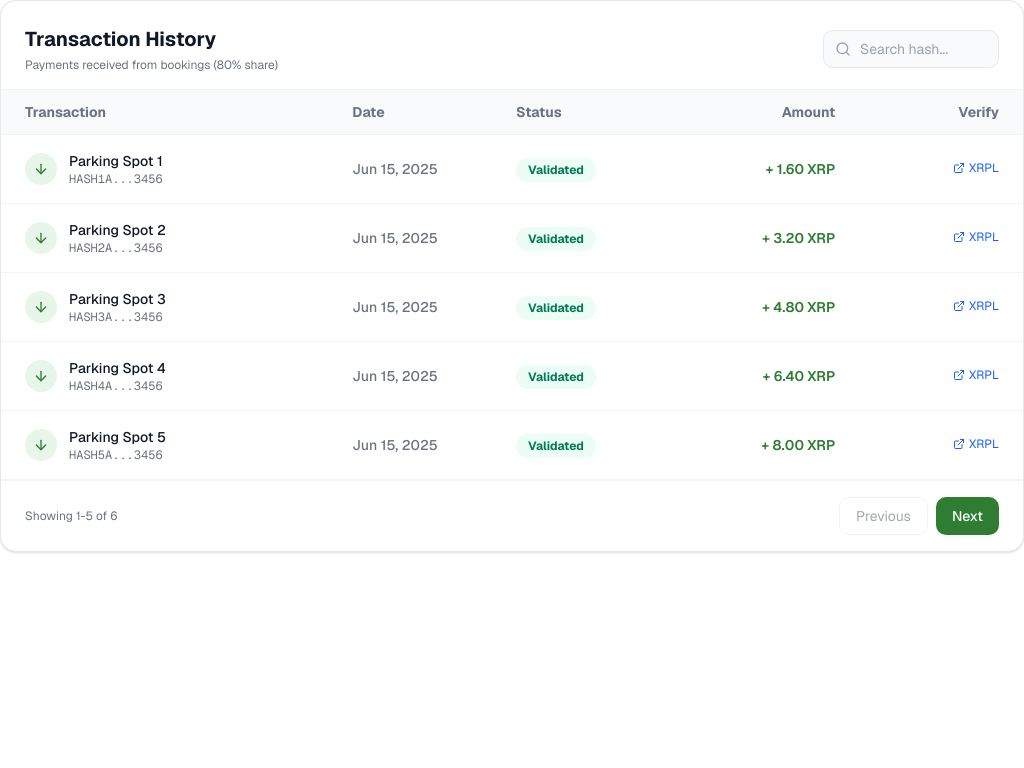
Test: TransactionHistoryCard Component › Search Resets Pagination › searching resets to page 1
Check: the text "Parking Spot 1" is shown, box [69, 151, 163, 171]
// Go to page 2
Click the button "Next" at (967, 516), box [936, 497, 999, 535]
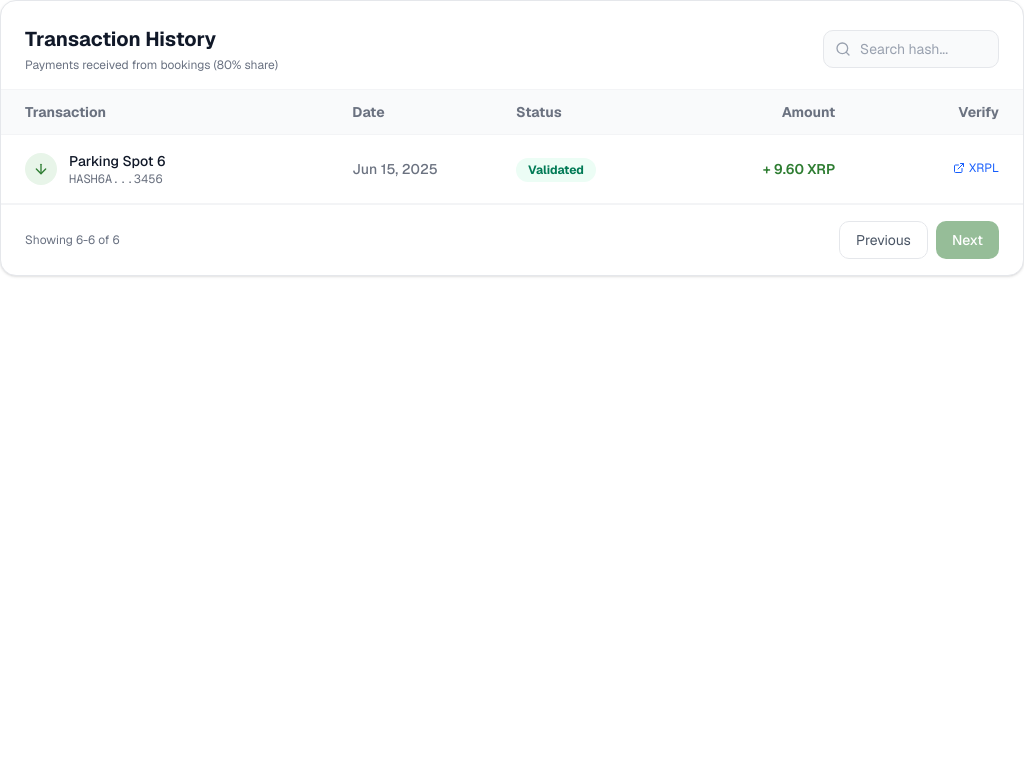
Check: the text "Parking Spot 6" is shown, box [69, 151, 165, 171]
// Search - should go back to page 1 of results
Type "Parking" into the field with placeholder "Search hash..." at (911, 49), box [823, 30, 999, 68]
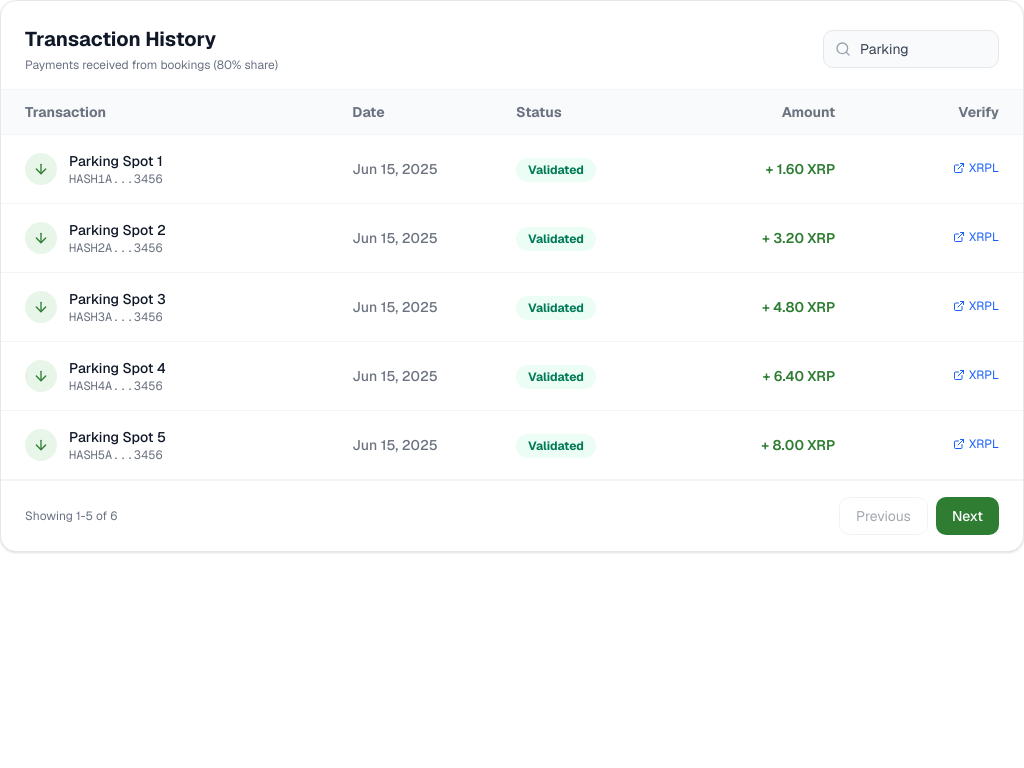
Check: the text "Parking Spot 1" is shown, box [69, 151, 163, 171]
